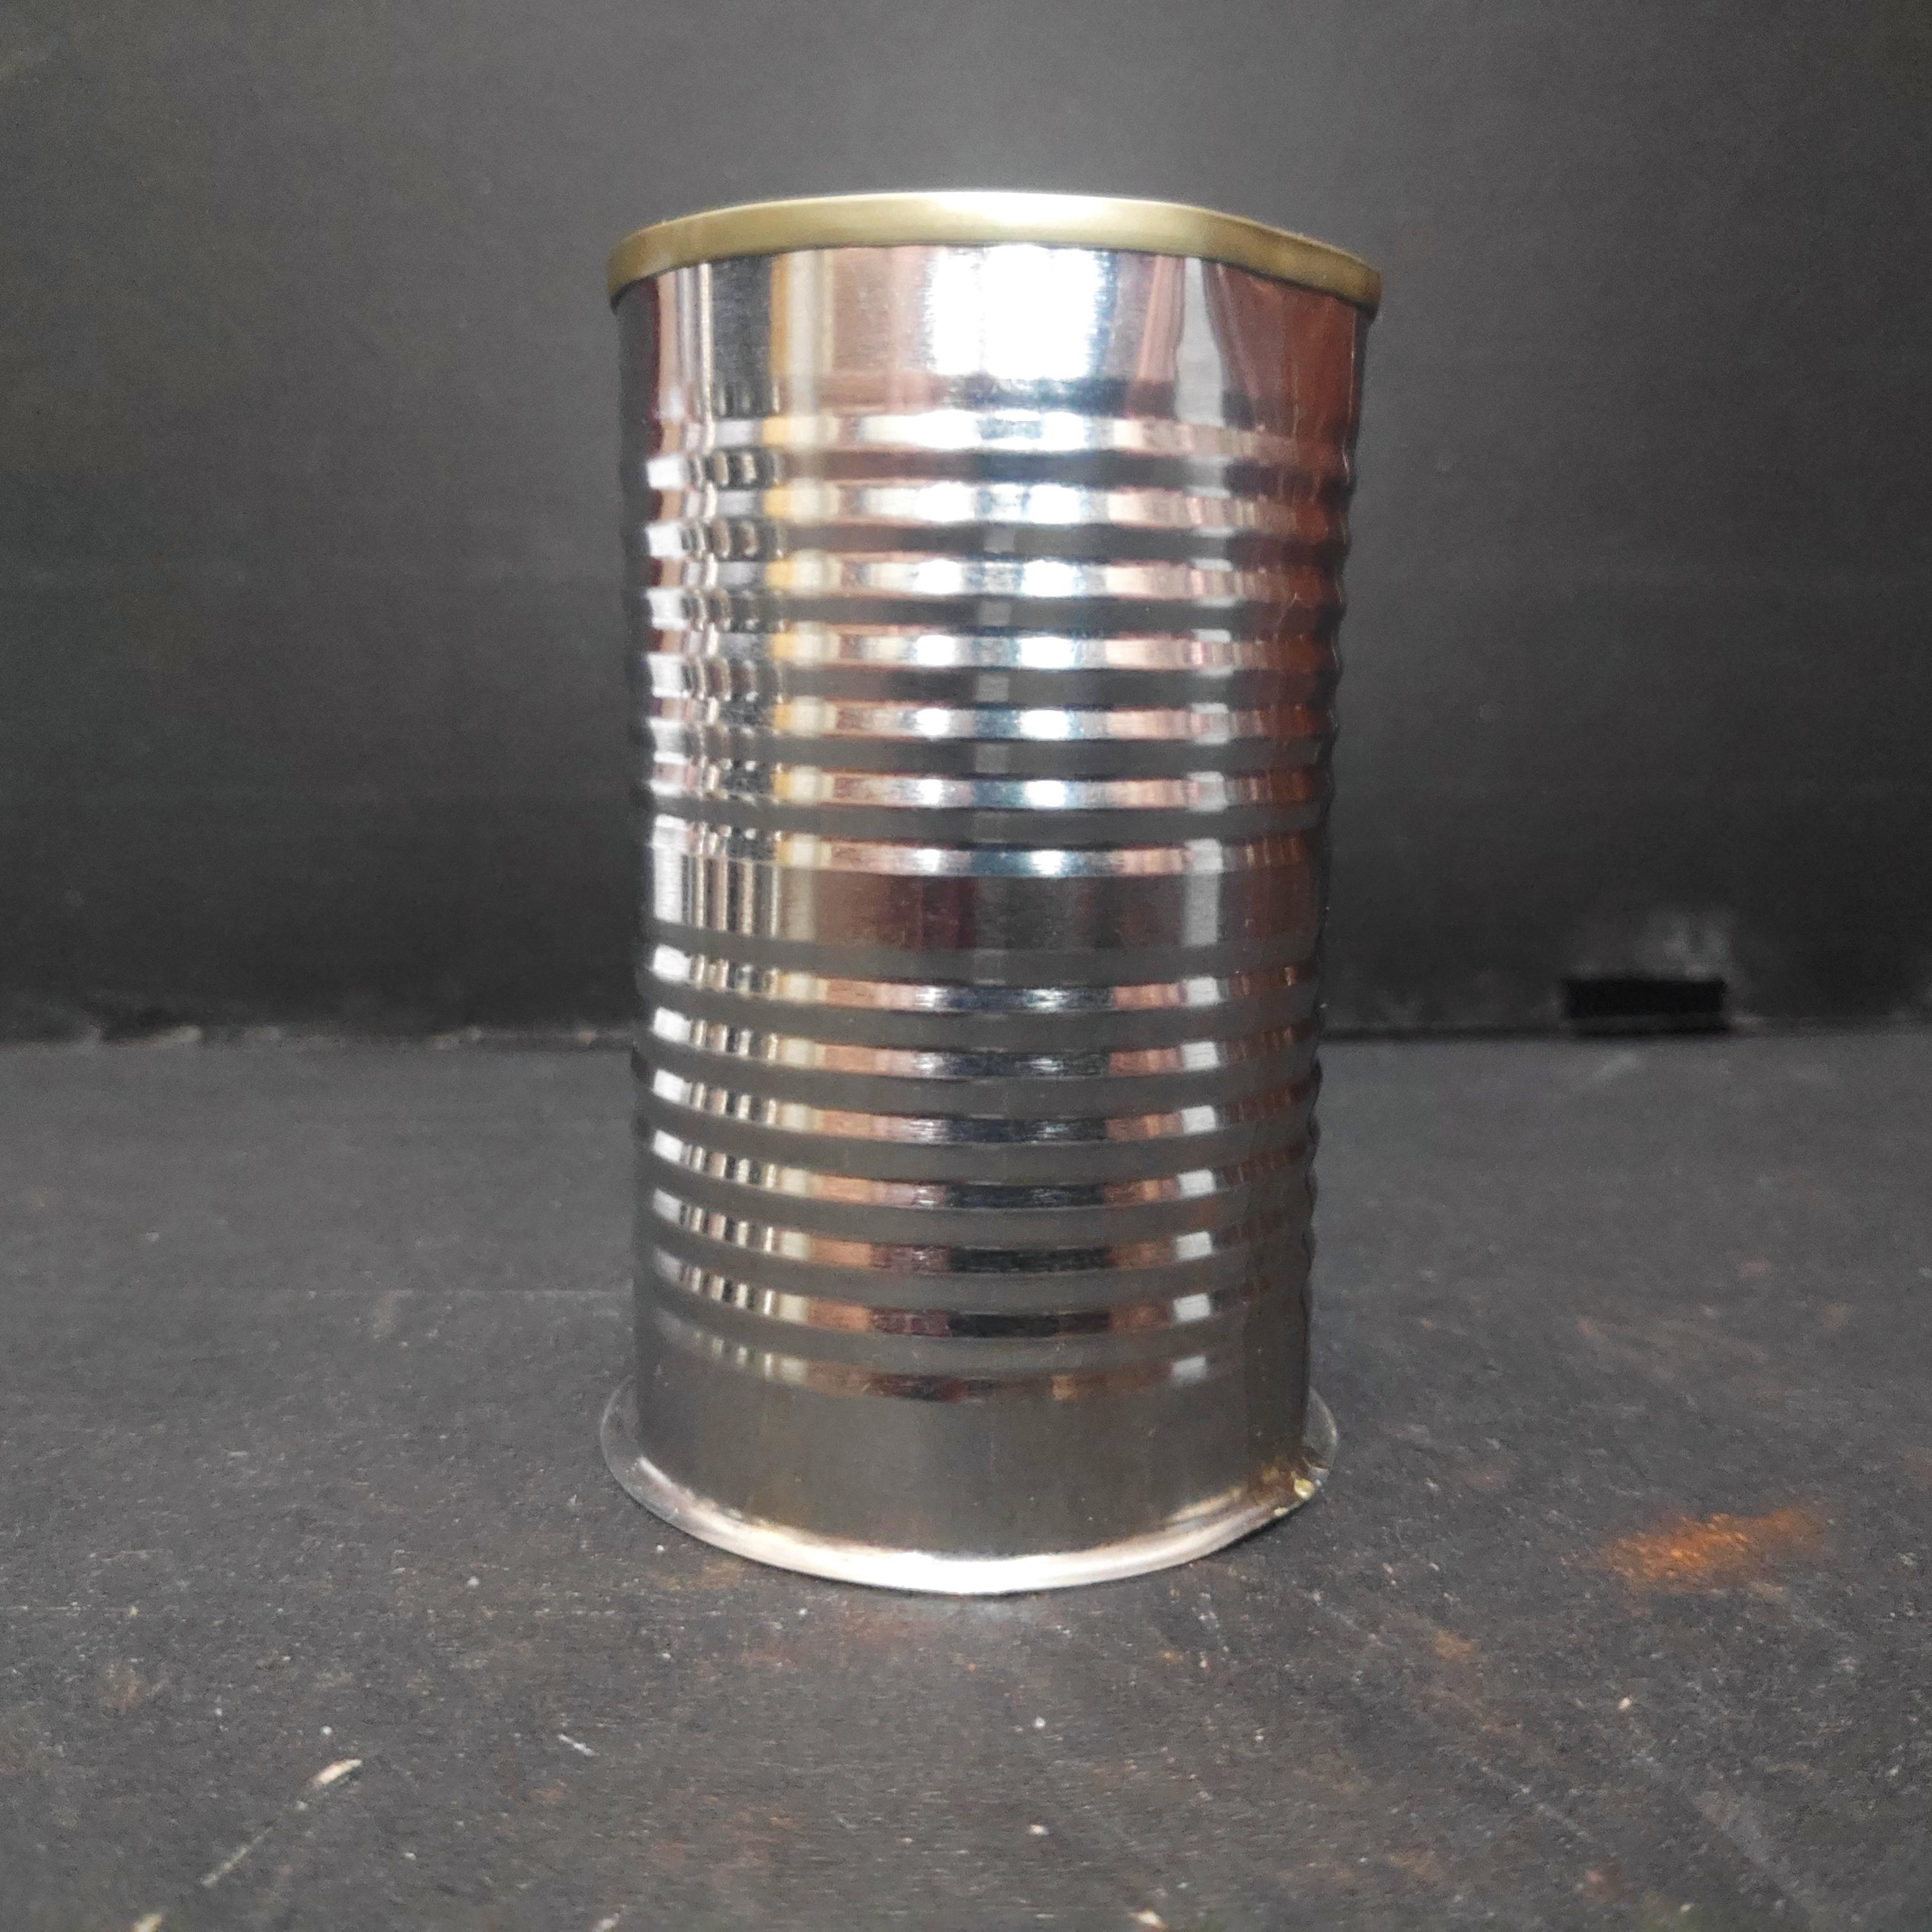Minor Defect: (602, 176, 1393, 1618)
